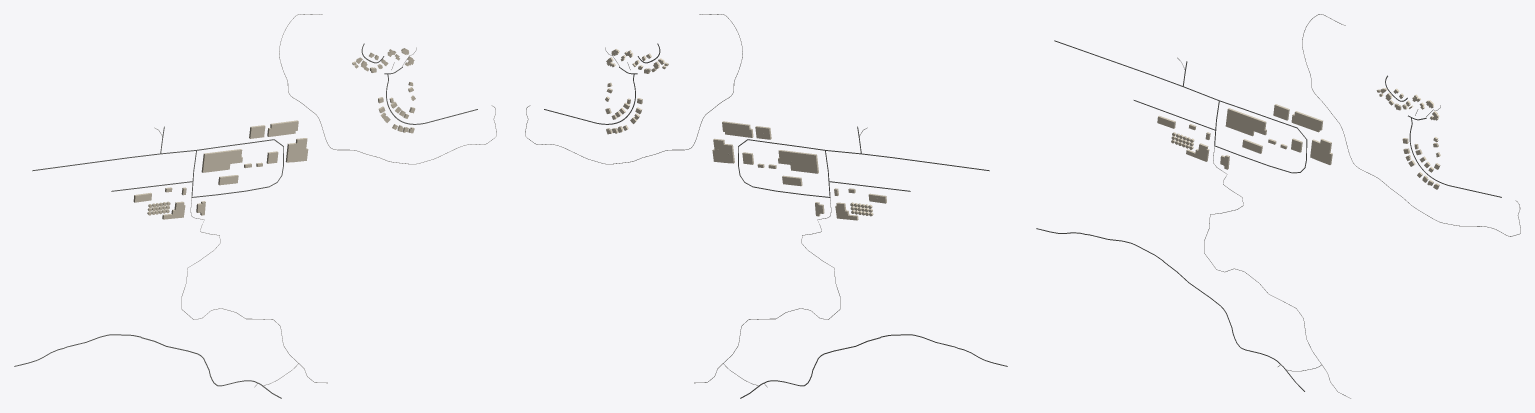
File: historic-palestine-10_36_3524_3305.glb
3 renders of one model, left to right at view 1: azimuth 30°, elevation 25°; view 2: azimuth 150°, elevation 25°; view 3: azimuth 330°, elevation 25°, orthographic.
Visible parts, largest first — view 1: Building_.028, Road, Road .006; view 2: Building_.028, Road, Road .006; view 3: Building_.028, Road, Road .006.
Part boxes in pixels (bbox=[...]): Building_.028: bbox=[201, 149, 242, 172]; Road: bbox=[32, 139, 283, 197]; Road .006: bbox=[14, 334, 281, 398]; Building_.028: bbox=[778, 150, 818, 173]; Road: bbox=[738, 139, 989, 197]; Road .006: bbox=[740, 334, 1007, 398]; Building_.028: bbox=[1225, 108, 1266, 136]; Road: bbox=[1054, 40, 1307, 173]; Road .006: bbox=[1036, 228, 1304, 391].
Size of the model in its own units: 1664 by 1254 by 8.7.
